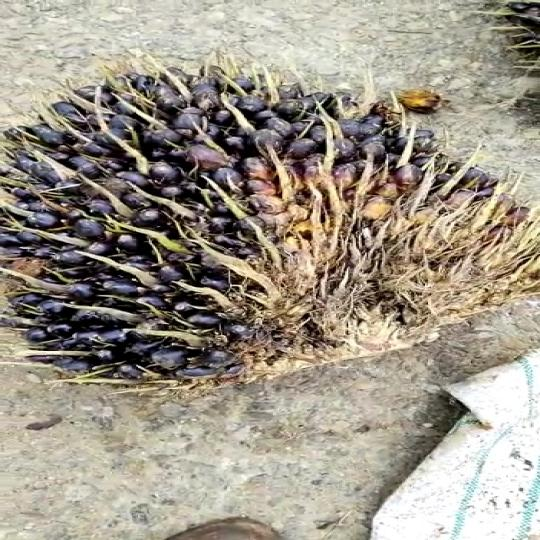mentah: (4, 53, 540, 404)
